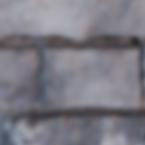brick: (43, 45, 141, 107), (8, 0, 144, 38), (3, 109, 144, 144), (0, 46, 39, 106), (0, 0, 12, 35), (137, 125, 144, 144)
crack: (2, 0, 142, 82), (132, 114, 144, 144), (140, 89, 144, 103)
